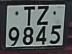4: (34, 24, 49, 46)
5: (49, 23, 63, 46)
8: (21, 25, 36, 47)
9: (7, 26, 22, 48)
T: (22, 5, 37, 28)
Z: (35, 5, 51, 28)
